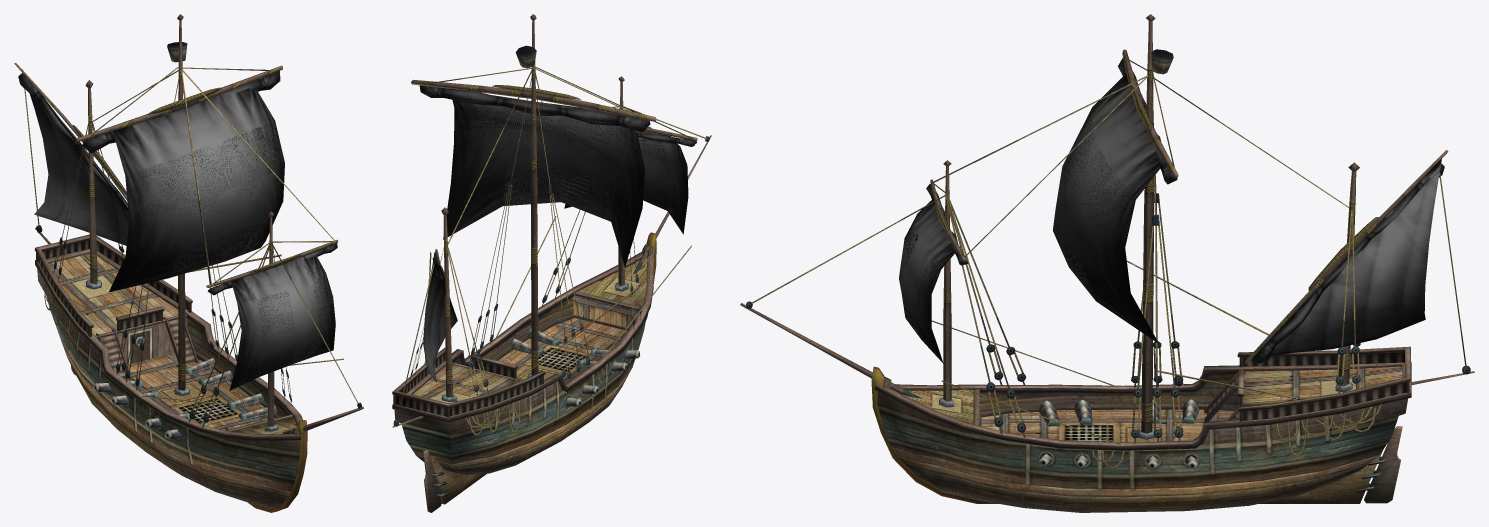
The model's file is T_Ship_03.fbx.
3 views of the same model, side by side, from view 1: azimuth 30°, elevation 25°; view 2: azimuth 150°, elevation 25°; view 3: azimuth 270°, elevation 25° (orthographic). The views are drawn at different scales.
Parts seen in each view (by area): view 1: T_Ship_p1, T_Ship_03_p2, T_Ship_03, T_Ship_03_p3, T_Ship_p1_off, T_Ship_03_p4; view 2: T_Ship_p1, T_Ship_03_p2, T_Ship_03, T_Ship_p1_off, T_Ship_03_p3, T_Ship_03_p4, T_Ship_03_p5; view 3: T_Ship_03_p2, T_Ship_p1, T_Ship_03, T_Ship_03_p3, T_Ship_03_p4, T_Ship_p1_off, T_Ship_03_p5.
Boxes of the visible parts, x1,y1,x2,y2 form: T_Ship_p1: (22,69,335,390); T_Ship_03_p2: (35,248,302,491); T_Ship_03: (14,14,363,435); T_Ship_03_p3: (68,359,291,509); T_Ship_p1_off: (18,70,337,295); T_Ship_03_p4: (248,420,307,512); T_Ship_p1: (423,89,688,382); T_Ship_03_p2: (392,248,654,464); T_Ship_03: (392,14,711,427); T_Ship_p1_off: (419,85,696,297); T_Ship_03_p3: (417,369,631,474); T_Ship_03_p4: (430,232,656,504); T_Ship_03_p5: (423,450,449,512); T_Ship_03_p2: (875,361,1411,489); T_Ship_p1: (899,73,1441,363); T_Ship_03: (740,14,1474,444); T_Ship_03_p3: (896,455,1378,512); T_Ship_03_p4: (871,366,1382,503); T_Ship_p1_off: (926,58,1444,363); T_Ship_03_p5: (1357,426,1402,503).
Size of the model in its own units: 4.35 by 7.91 by 10.78.
